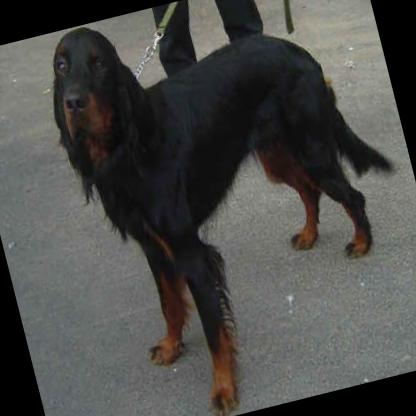Gordon_setter: (28, 0, 416, 416)
